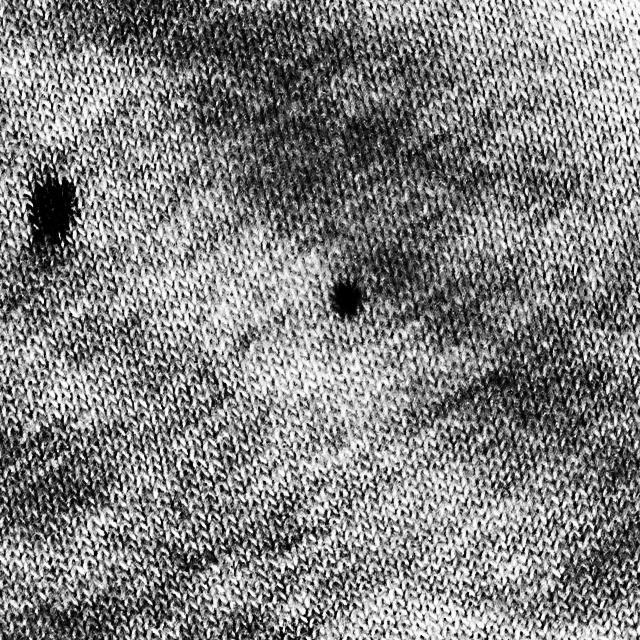Color_defect: (18, 173, 84, 252), (325, 273, 363, 324)
